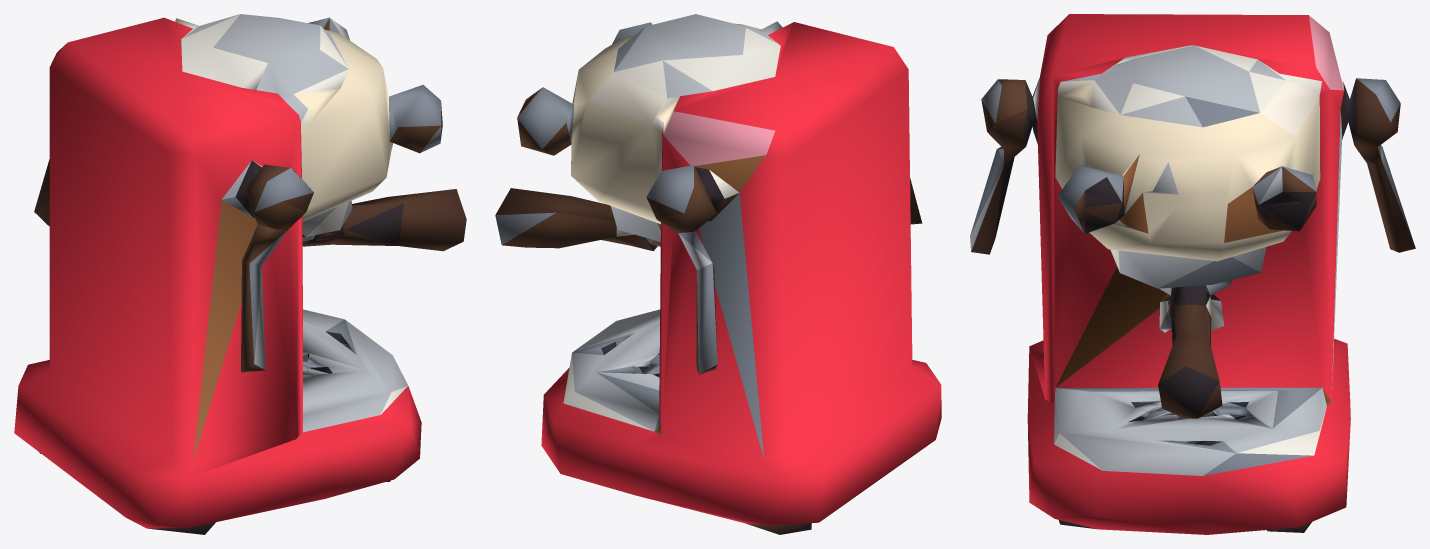
Rendered from SM_espresso_machine.glb.
The picture shows the model from 3 angles, left to right: view 1: azimuth 30°, elevation 25°; view 2: azimuth 150°, elevation 25°; view 3: azimuth 270°, elevation 25°; orthographic projection. The views are drawn at different scales.
Visible parts, largest first — view 1: SM_espresso_machine; view 2: SM_espresso_machine; view 3: SM_espresso_machine.
Boxes of the visible parts, x1,y1,x2,y2 form: SM_espresso_machine: [14, 14, 466, 534]; SM_espresso_machine: [495, 14, 941, 534]; SM_espresso_machine: [970, 14, 1415, 534].
Bounding box in the file's own units: 0.4825 × 0.5 × 0.4755.
1 material, 1 textured.
